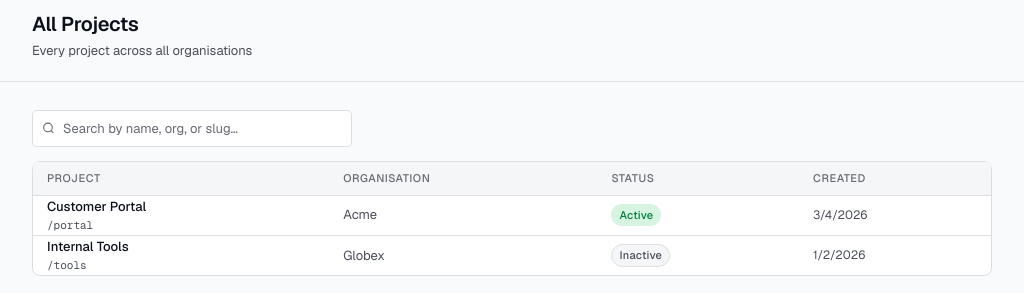
Scenario: the search box › matches on a project name, ignoring case
Expected: the text "Customer Portal" is shown, [47,198,146,215]
Type "portal" into the field with placeholder "Search by name, org, or slug…".
click(192, 128); type("portal")  # box [32,110,352,147]
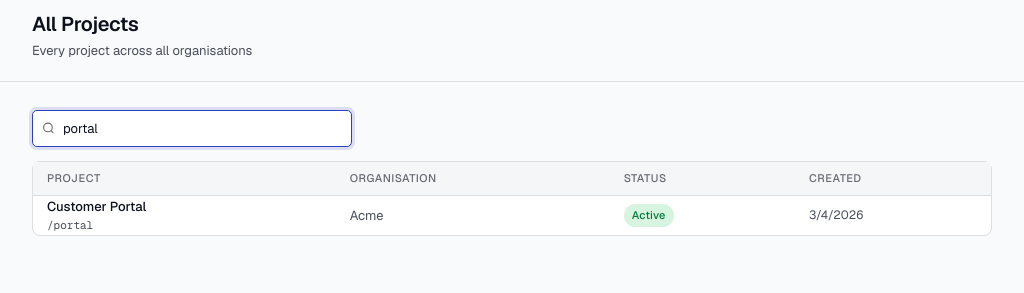
Expected: the text "Customer Portal" is shown, [47,198,146,215]
Result: the number of rows is 2 at [33,162,991,195]; [33,195,991,235]
